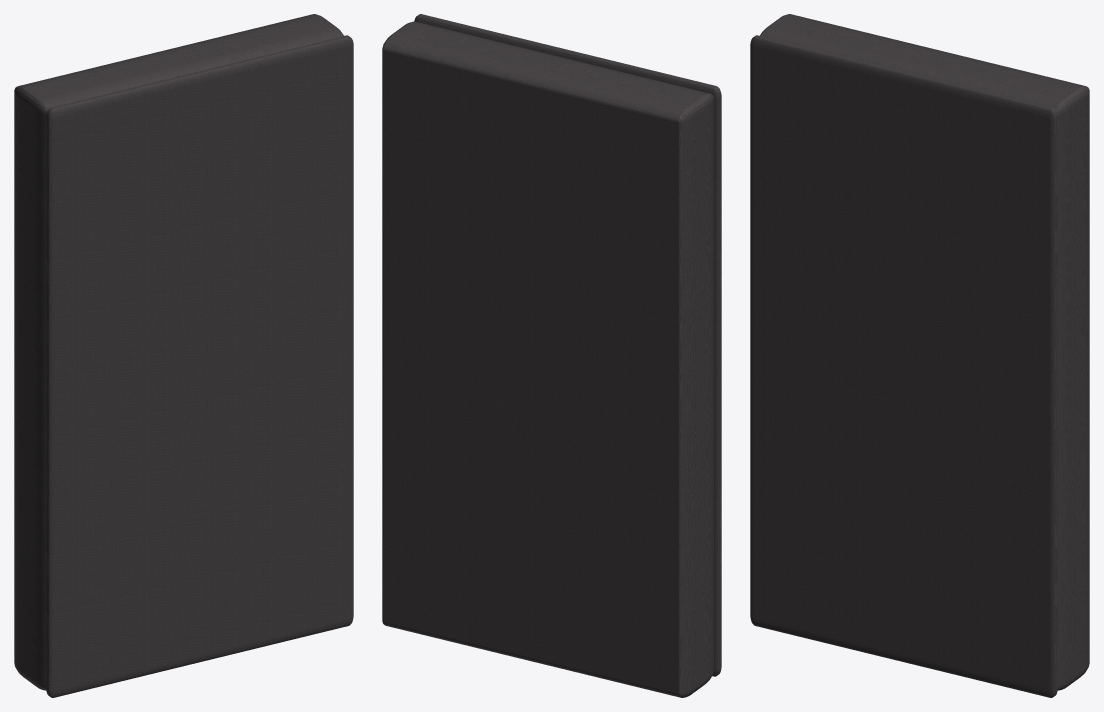
Rendered from colchon.dae.
The picture shows the model from 3 angles, left to right: view 1: azimuth 30°, elevation 25°; view 2: azimuth 150°, elevation 25°; view 3: azimuth 330°, elevation 25°; orthographic projection.
Visible parts, largest first — view 1: node; view 2: node; view 3: node.
Part boxes in pixels (x1,y1,x2,y2): node: (14,14,353,697); node: (382,14,721,697); node: (750,14,1089,697).
Size of the model in its own units: 1277 by 2355 by 285.
1 material, 1 textured.
